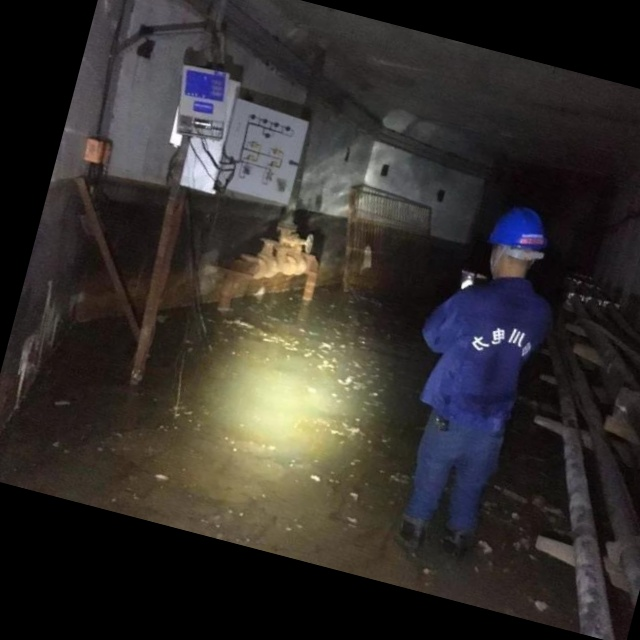Con_Casco: (483, 200, 549, 280)
Sin_Chaleco: (424, 271, 554, 423)
